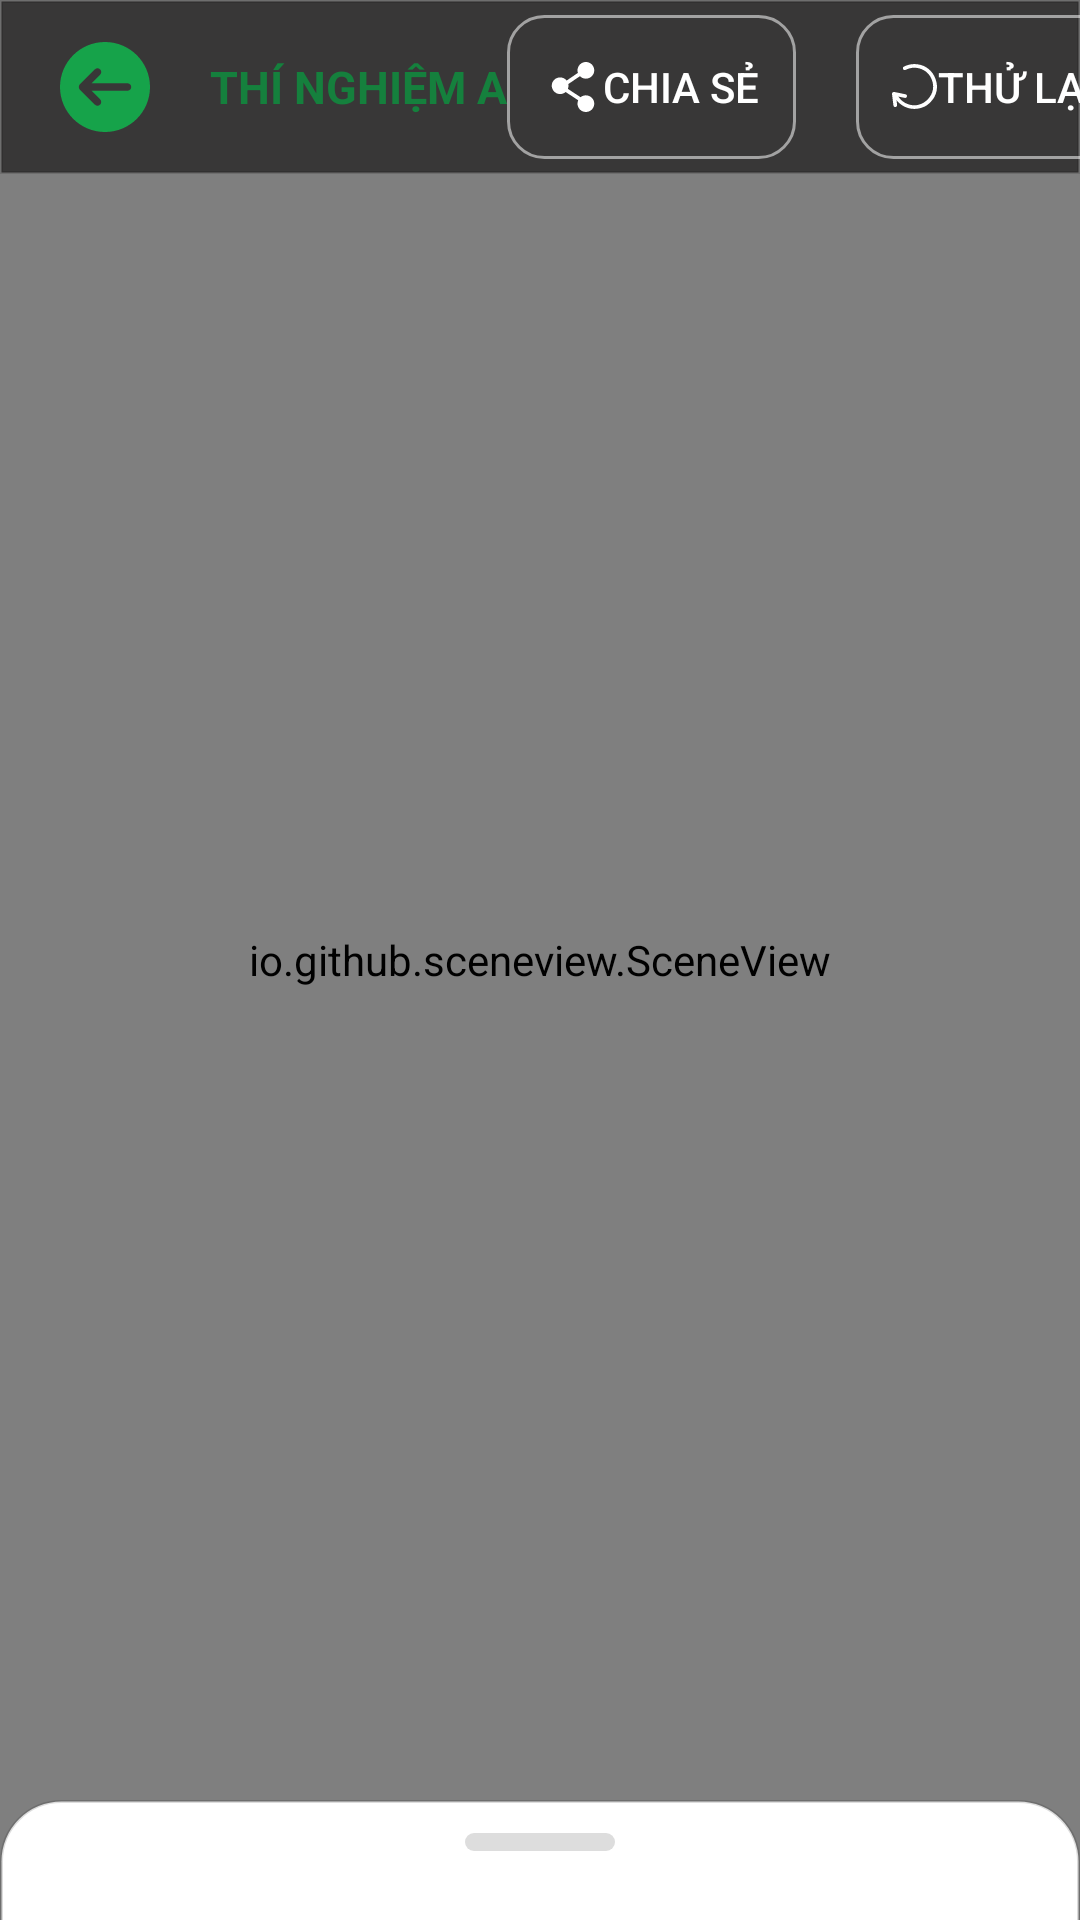

Icon bounding boxes for this 1080w x 1920h phone screenshot, format Rect(x1, y1, x2, y2):
back: Rect(60, 42, 150, 132)
